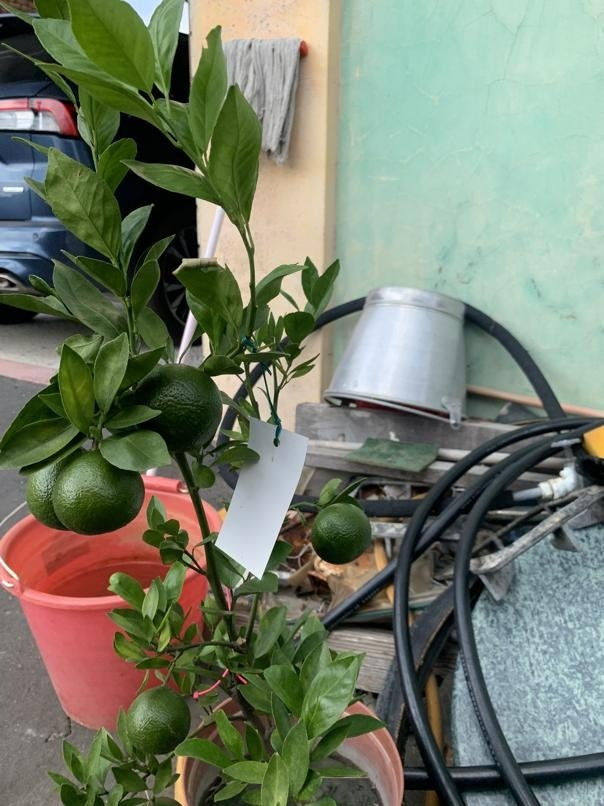Tangerine: (116, 362, 229, 451), (46, 446, 139, 536), (127, 683, 193, 756), (315, 503, 371, 564)
